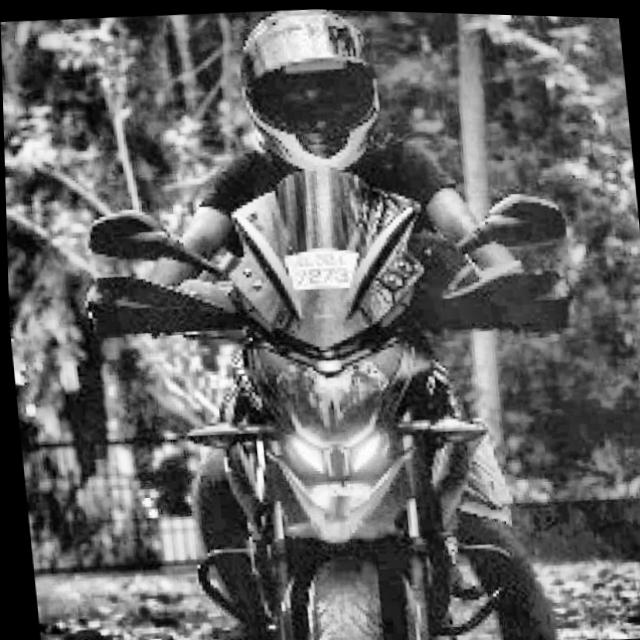motorcycle: (68, 149, 615, 640)
